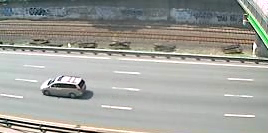car: (37, 72, 90, 101)
